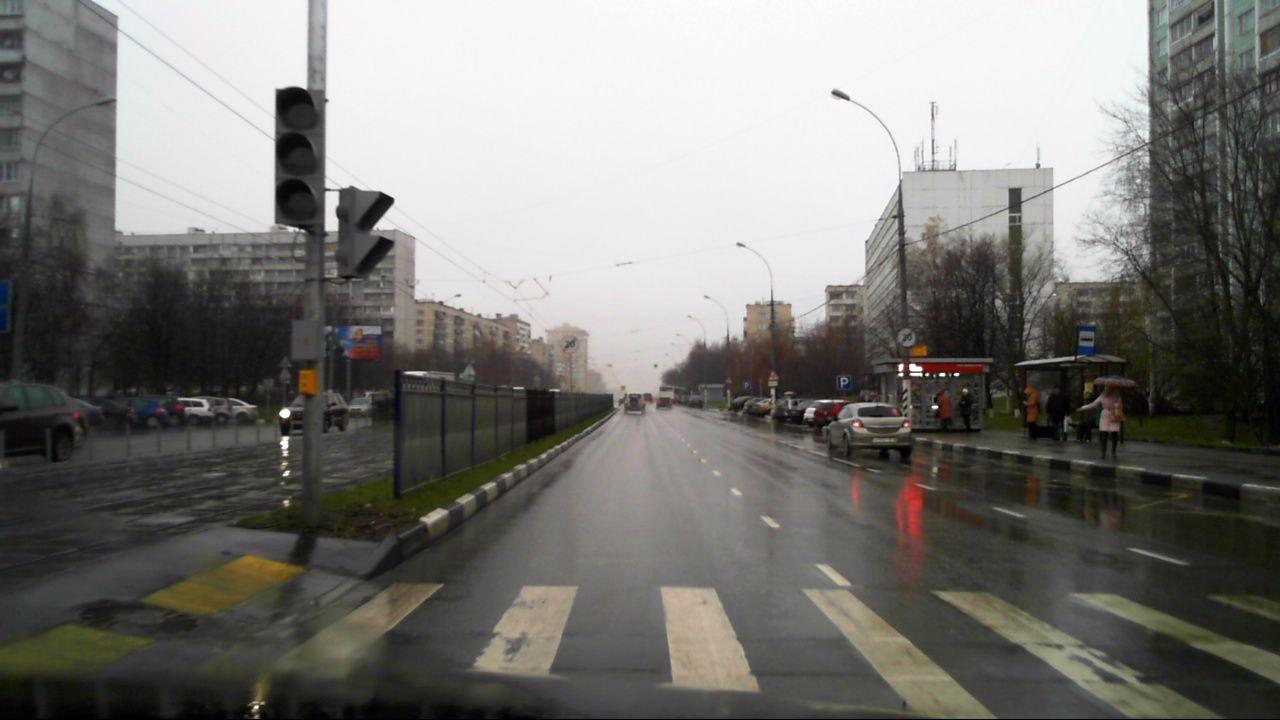1_23: (766, 369, 779, 380)
3_25: (898, 327, 917, 347), (559, 335, 579, 353)
5_16: (1078, 324, 1096, 355)
6_4: (836, 374, 852, 389), (742, 382, 751, 389)
8_2_1: (768, 380, 779, 387)
